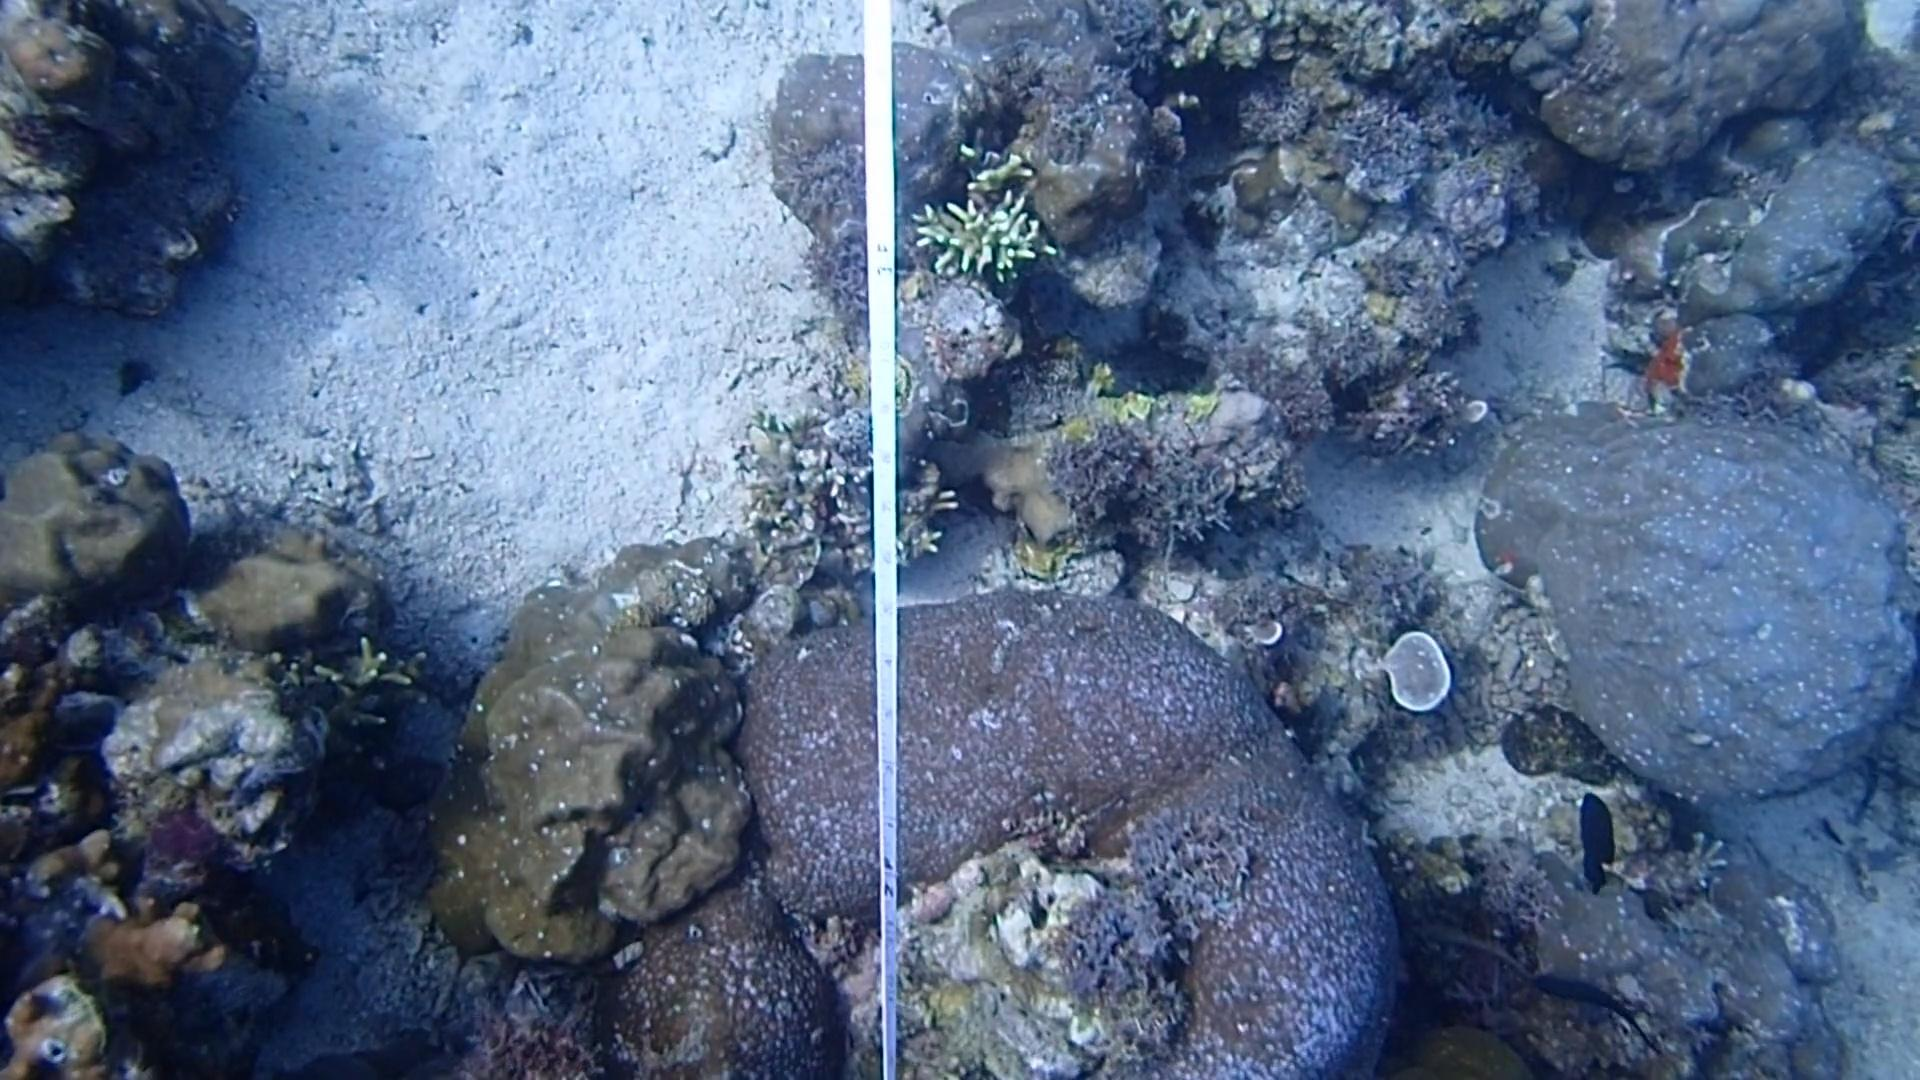Dark Fish: (1565, 782, 1630, 891)
